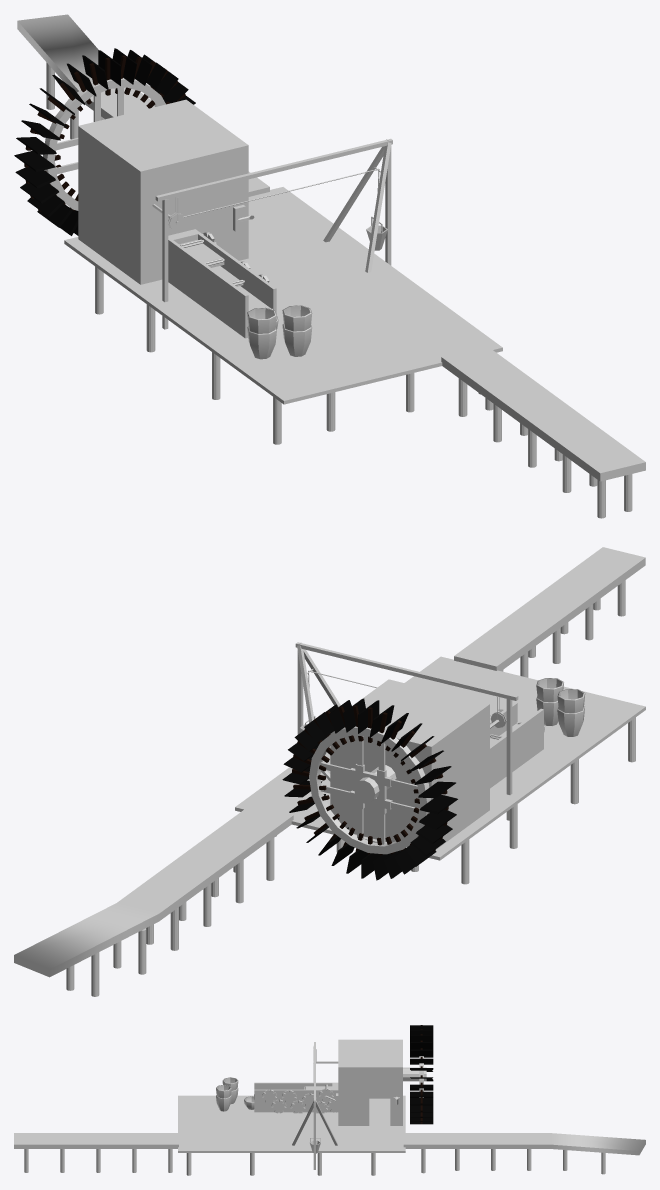
The model's file is Watermill.fbx.
The picture shows the model from 3 angles, top to bottom: view 1: azimuth 30°, elevation 25°; view 2: azimuth 150°, elevation 25°; view 3: azimuth 270°, elevation 25°; orthographic projection. The views are drawn at different scales.
Visible parts, largest first — view 1: pasted__pCube1, pasted__House, pasted__pCube22, pasted__Line3, pasted__pCube2, pasted__pCylinder6, pasted__pCube20, pasted__pCube18, pasted__pCube21, pasted__pCube17, pasted__pCube19; view 2: pasted__House, pasted__pCube1, pasted__pCube2, pasted__pCube22, pasted__pCylinder6, pasted__Line3, pasted__pCube20, pasted__pCube16, pasted__pCube14, pasted__pCube21, pasted__pCylinder7; view 3: pasted__pCube1, pasted__House, pasted__pCube2, pasted__pCube22, pasted__Line3, pasted__pCylinder7.
Boxes of the visible parts, left/top/right/bottom form: pasted__pCube1: left=64, top=187, right=502, bottom=404; pasted__House: left=78, top=99, right=248, bottom=284; pasted__pCube22: left=441, top=346, right=645, bottom=481; pasted__Line3: left=168, top=229, right=276, bottom=338; pasted__pCube2: left=17, top=14, right=269, bottom=196; pasted__pCylinder6: left=43, top=78, right=165, bottom=210; pasted__pCube20: left=155, top=138, right=392, bottom=201; pasted__pCube18: left=365, top=140, right=391, bottom=272; pasted__pCube21: left=162, top=199, right=168, bottom=329; pasted__pCube17: left=323, top=139, right=388, bottom=242; pasted__pCube19: left=385, top=146, right=391, bottom=265; pasted__House: left=330, top=679, right=489, bottom=849; pasted__pCube1: left=235, top=656, right=645, bottom=860; pasted__pCube2: left=14, top=805, right=293, bottom=977; pasted__pCube22: left=454, top=547, right=645, bottom=670; pasted__pCylinder6: left=309, top=726, right=430, bottom=854; pasted__Line3: left=490, top=702, right=543, bottom=788; pasted__pCube20: left=295, top=642, right=518, bottom=700; pasted__pCube16: left=377, top=743, right=386, bottom=844; pasted__pCube14: left=320, top=762, right=417, bottom=791; pasted__pCube21: left=506, top=699, right=512, bottom=820; pasted__pCylinder7: left=354, top=765, right=396, bottom=802; pasted__pCube1: left=178, top=1095, right=405, bottom=1152; pasted__House: left=338, top=1039, right=402, bottom=1125; pasted__pCube2: left=403, top=1133, right=645, bottom=1155; pasted__pCube22: left=14, top=1133, right=178, bottom=1148; pasted__Line3: left=254, top=1082, right=338, bottom=1112; pasted__pCylinder7: left=403, top=1067, right=426, bottom=1081.
Size of the model in its own units: 13.26 by 9.92 by 53.01.
